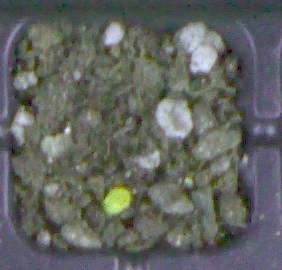chilli seed: (102, 186, 132, 215)
